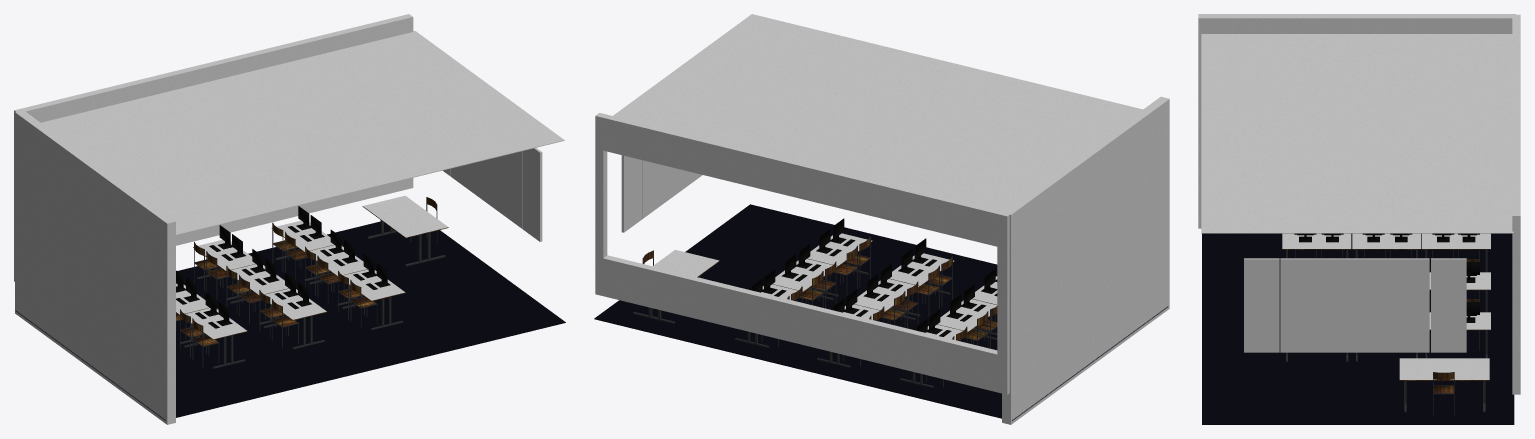
Rendered from salle_classe_haut10.obj.
3 renders of one model, left to right at view 1: azimuth 30°, elevation 25°; view 2: azimuth 150°, elevation 25°; view 3: azimuth 270°, elevation 25°, orthographic. The views are drawn at different scales.
Parts seen in each view (by area): view 1: plafond_classe.024; view 2: plafond_classe.024; view 3: plafond_classe.024.
Boxes of the visible parts, box(x1,y1,x2,y2) form: plafond_classe.024: box(14, 14, 565, 424); plafond_classe.024: box(594, 14, 1169, 424); plafond_classe.024: box(1198, 14, 1520, 424).
Bounding box in the file's own units: 23.46 × 11.26 × 15.66.
Materials: 6 (3 with a texture image).
